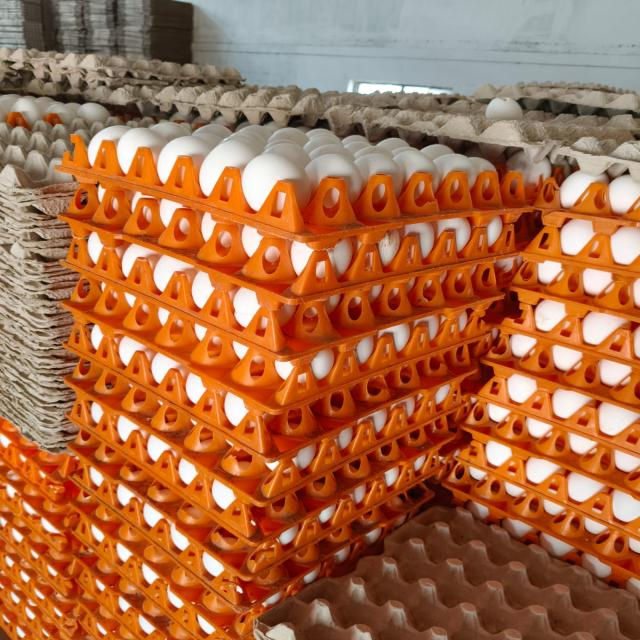egg_tray: (67, 256, 501, 410), (64, 281, 501, 432), (76, 380, 460, 543), (66, 244, 517, 378), (67, 359, 475, 505), (62, 185, 530, 308), (68, 280, 496, 412), (61, 124, 530, 243), (68, 368, 475, 505), (69, 359, 469, 498), (71, 404, 459, 544), (77, 485, 431, 637), (70, 429, 440, 572), (257, 504, 638, 640), (68, 347, 473, 467), (77, 483, 431, 613), (79, 451, 441, 578), (490, 208, 638, 473), (78, 518, 386, 635), (462, 305, 639, 500), (387, 502, 638, 638), (0, 120, 104, 448), (459, 389, 639, 552), (78, 515, 357, 611), (445, 442, 639, 578), (443, 462, 639, 592), (0, 128, 76, 448), (487, 257, 639, 410), (447, 476, 639, 597), (444, 464, 633, 586), (82, 80, 523, 132), (83, 81, 523, 133), (69, 492, 218, 640), (326, 106, 638, 175), (461, 373, 639, 493), (484, 300, 639, 436), (458, 439, 639, 552), (502, 262, 639, 404), (484, 312, 639, 436), (0, 182, 76, 433), (79, 525, 247, 638), (487, 290, 639, 403), (0, 168, 76, 369), (77, 552, 234, 640), (0, 421, 78, 595), (74, 551, 220, 640), (74, 552, 220, 640), (512, 218, 639, 319), (148, 85, 460, 126), (81, 574, 264, 640), (523, 170, 639, 274), (500, 300, 639, 386), (76, 554, 215, 640), (83, 84, 325, 128), (0, 47, 242, 90), (0, 116, 154, 182), (0, 422, 74, 551), (0, 128, 76, 252), (172, 86, 401, 126), (0, 116, 121, 190), (0, 116, 121, 189), (0, 489, 80, 597), (78, 569, 199, 640), (0, 471, 78, 580), (511, 256, 639, 321), (19, 52, 241, 89), (0, 472, 77, 576), (0, 94, 124, 158), (0, 541, 79, 637), (0, 536, 75, 637), (21, 52, 241, 85), (0, 120, 103, 189), (523, 217, 639, 277), (0, 539, 76, 630), (0, 472, 76, 560), (0, 512, 76, 600), (0, 116, 156, 158), (0, 120, 99, 186), (59, 54, 242, 88), (0, 419, 74, 503), (535, 169, 639, 228), (0, 539, 76, 618), (0, 569, 83, 640), (0, 523, 77, 599), (0, 490, 77, 562), (2, 431, 75, 504), (473, 83, 639, 115), (76, 598, 196, 640), (76, 598, 194, 640), (556, 128, 639, 182), (0, 94, 121, 131), (0, 116, 122, 150), (0, 585, 73, 640), (0, 135, 74, 188), (0, 94, 111, 129), (322, 92, 486, 114), (475, 80, 635, 102), (0, 126, 69, 175), (81, 608, 184, 640), (0, 121, 90, 157), (524, 111, 634, 139), (522, 110, 638, 136), (0, 120, 90, 151), (524, 110, 638, 133), (75, 604, 146, 640), (78, 607, 145, 640), (0, 502, 38, 558), (0, 46, 42, 90), (382, 488, 431, 525), (428, 437, 461, 488), (514, 208, 542, 260), (0, 612, 48, 640), (524, 111, 596, 127), (610, 176, 637, 215), (245, 580, 285, 606), (0, 607, 28, 640), (0, 454, 25, 488), (210, 292, 235, 324), (487, 376, 526, 396), (359, 516, 385, 546), (488, 101, 526, 119), (337, 293, 365, 317), (125, 114, 167, 130), (287, 570, 319, 590), (24, 80, 66, 95), (588, 498, 613, 522), (23, 80, 65, 94), (135, 210, 160, 232), (380, 502, 407, 522), (245, 436, 273, 455), (429, 416, 451, 440), (561, 220, 592, 237), (452, 272, 472, 296), (486, 442, 507, 463), (546, 486, 570, 504), (15, 511, 32, 535), (284, 412, 309, 428), (0, 170, 28, 184), (0, 424, 13, 454), (626, 233, 639, 263), (173, 228, 197, 244), (412, 488, 430, 508), (154, 88, 171, 108), (452, 405, 469, 425), (318, 177, 339, 193), (611, 226, 639, 238), (203, 486, 226, 499), (126, 118, 155, 128), (177, 460, 192, 479), (394, 333, 409, 352), (126, 118, 154, 128), (78, 492, 91, 513), (227, 583, 243, 600), (127, 118, 154, 128), (332, 121, 351, 135), (54, 504, 70, 520), (127, 118, 154, 127), (556, 156, 575, 168), (47, 169, 64, 182), (507, 487, 518, 507), (272, 182, 290, 194), (55, 505, 70, 519), (425, 129, 450, 137), (617, 515, 628, 533), (149, 631, 171, 640), (380, 115, 393, 130), (357, 424, 372, 436), (149, 632, 171, 640), (471, 574, 488, 584), (223, 298, 231, 319), (487, 387, 501, 399), (609, 542, 621, 555), (5, 50, 19, 61), (566, 155, 580, 166), (127, 271, 138, 284), (207, 633, 226, 640), (39, 263, 58, 270), (178, 124, 190, 135), (224, 533, 235, 545), (470, 471, 482, 482), (211, 542, 224, 552), (78, 346, 94, 354), (560, 544, 574, 553), (538, 310, 548, 322), (96, 576, 104, 590), (397, 630, 411, 638), (618, 122, 634, 129), (119, 545, 130, 555), (428, 278, 439, 288), (229, 450, 238, 462), (468, 103, 483, 110), (450, 475, 463, 483), (0, 124, 4, 150), (3, 549, 11, 562), (89, 414, 99, 424), (368, 126, 378, 136), (9, 50, 19, 60), (78, 400, 88, 410), (521, 263, 531, 273), (625, 477, 634, 488), (311, 343, 320, 354), (615, 438, 627, 446), (505, 470, 513, 482), (272, 607, 284, 615), (594, 236, 607, 243), (47, 566, 56, 576), (239, 479, 247, 490), (70, 337, 81, 345), (371, 176, 388, 181), (39, 190, 51, 197), (0, 521, 9, 530), (497, 262, 507, 270), (154, 616, 164, 624), (447, 173, 460, 179), (379, 418, 386, 429), (613, 439, 624, 446), (487, 389, 498, 396), (210, 635, 225, 640), (129, 436, 141, 442), (438, 392, 446, 401), (75, 543, 83, 552), (391, 110, 399, 119), (514, 398, 523, 406), (77, 544, 85, 553), (267, 598, 279, 604), (122, 524, 131, 532), (558, 614, 566, 623), (77, 416, 87, 423), (634, 560, 639, 574), (286, 397, 296, 404), (99, 250, 106, 260), (627, 438, 634, 448), (352, 522, 362, 529), (401, 398, 412, 404), (429, 100, 437, 108), (577, 237, 585, 245), (470, 122, 477, 131), (4, 353, 11, 362), (237, 628, 246, 635), (130, 389, 139, 396), (555, 517, 564, 524), (500, 131, 505, 143), (369, 312, 375, 322), (125, 341, 133, 348), (106, 576, 113, 584), (394, 287, 401, 295), (33, 634, 47, 638), (85, 580, 90, 591), (601, 417, 610, 423), (0, 589, 6, 598), (549, 510, 558, 516), (211, 635, 221, 640), (272, 570, 282, 575), (541, 134, 551, 139), (483, 483, 490, 490), (436, 339, 444, 345), (628, 438, 634, 446), (106, 574, 118, 578), (175, 536, 183, 542), (495, 384, 503, 390), (159, 407, 165, 415), (598, 538, 606, 544), (126, 563, 132, 571), (182, 220, 188, 228), (565, 626, 577, 630), (610, 548, 619, 553), (321, 446, 327, 453), (322, 371, 329, 377), (120, 361, 127, 367), (199, 586, 205, 593), (46, 513, 53, 519), (493, 459, 500, 465), (412, 282, 419, 288), (77, 439, 83, 446), (331, 445, 339, 450), (178, 538, 183, 546), (210, 380, 220, 384), (581, 107, 589, 112), (168, 123, 178, 127), (599, 117, 609, 121), (238, 307, 246, 312), (155, 438, 161, 444), (172, 531, 176, 540), (287, 223, 293, 229), (61, 244, 67, 250), (460, 323, 465, 330), (28, 256, 35, 261), (213, 635, 220, 640), (537, 432, 544, 437), (172, 599, 177, 606), (599, 538, 606, 543), (184, 630, 188, 638), (371, 633, 379, 637), (321, 303, 325, 311), (273, 132, 281, 136), (202, 495, 207, 501), (547, 228, 557, 231), (30, 496, 35, 502), (556, 448, 562, 453), (583, 178, 593, 181), (500, 136, 505, 142), (453, 391, 459, 396), (92, 444, 98, 449), (607, 616, 612, 622), (170, 376, 174, 383), (101, 480, 108, 484), (176, 568, 180, 575), (0, 96, 4, 103), (527, 416, 534, 420), (500, 95, 507, 99), (314, 585, 321, 589), (110, 118, 119, 121), (98, 583, 103, 588), (45, 501, 50, 506), (594, 632, 599, 637), (190, 357, 194, 363), (200, 278, 203, 286), (10, 473, 14, 479), (342, 634, 350, 637), (236, 502, 242, 506), (256, 308, 260, 314), (13, 62, 17, 68), (172, 598, 176, 604), (501, 155, 504, 162), (190, 224, 197, 227), (300, 594, 307, 597), (94, 482, 99, 486), (309, 461, 313, 466), (49, 443, 54, 447), (545, 514, 549, 519), (365, 117, 370, 121), (6, 50, 10, 55), (7, 559, 12, 563), (485, 483, 489, 488), (590, 278, 595, 282), (377, 522, 383, 525), (314, 372, 317, 378), (206, 206, 212, 209), (120, 351, 123, 357), (262, 292, 268, 295), (459, 468, 462, 474), (414, 634, 420, 637), (412, 114, 418, 117), (194, 563, 197, 569), (399, 309, 408, 311), (373, 247, 377, 251), (414, 174, 418, 178), (269, 323, 273, 327), (343, 320, 347, 324), (508, 273, 512, 277), (631, 448, 635, 452), (156, 378, 160, 382), (0, 157, 2, 165), (0, 125, 4, 129), (190, 562, 194, 566), (590, 184, 594, 188), (153, 584, 157, 588), (271, 326, 275, 330), (113, 518, 117, 522), (458, 246, 462, 250), (249, 478, 254, 481), (543, 176, 548, 179), (628, 344, 631, 349), (545, 436, 550, 439), (116, 466, 119, 471), (367, 462, 370, 467), (83, 506, 86, 511), (619, 115, 624, 118), (569, 495, 574, 498), (405, 505, 410, 508), (170, 378, 173, 383), (43, 193, 50, 195), (594, 530, 601, 532), (265, 468, 268, 472), (110, 446, 113, 450), (231, 396, 234, 400), (69, 193, 72, 197), (179, 356, 183, 359), (318, 194, 322, 197), (397, 287, 401, 290), (603, 426, 609, 428), (583, 424, 586, 428), (50, 571, 54, 574), (0, 436, 3, 440), (634, 437, 636, 443), (127, 354, 130, 358), (506, 157, 510, 160), (605, 572, 609, 575), (511, 448, 515, 451), (96, 510, 100, 513), (11, 598, 14, 602), (3, 618, 6, 622), (43, 192, 49, 194), (3, 183, 6, 187), (11, 97, 15, 100), (593, 582, 597, 585), (97, 608, 101, 611), (14, 253, 18, 256), (441, 122, 443, 128), (372, 122, 378, 124), (56, 351, 62, 353), (85, 607, 89, 610), (213, 636, 219, 638), (172, 627, 174, 633), (158, 555, 161, 559), (613, 472, 617, 475), (593, 94, 596, 98), (71, 445, 75, 448), (628, 115, 631, 119), (58, 153, 61, 157), (634, 531, 637, 535), (622, 528, 625, 532), (572, 504, 575, 508), (193, 386, 196, 390), (299, 310, 303, 313), (613, 172, 619, 174), (383, 140, 389, 142), (0, 605, 3, 609), (288, 602, 292, 605), (541, 282, 546, 284), (5, 185, 7, 190), (561, 514, 563, 519), (621, 212, 626, 214), (15, 136, 17, 141), (45, 396, 47, 401), (23, 364, 28, 366), (387, 126, 392, 128), (610, 114, 615, 116), (587, 496, 592, 498), (223, 604, 228, 606), (256, 478, 259, 481), (432, 360, 435, 363), (532, 360, 535, 363), (503, 345, 506, 348), (379, 396, 382, 399), (465, 478, 468, 481), (154, 375, 157, 378), (151, 284, 154, 287), (112, 253, 115, 256), (534, 502, 537, 505), (574, 320, 577, 323), (0, 623, 3, 626), (39, 508, 42, 511), (604, 179, 607, 182), (18, 506, 21, 509), (20, 255, 23, 258), (7, 483, 10, 486), (405, 625, 408, 628), (537, 132, 540, 135), (354, 118, 357, 121), (534, 394, 537, 397), (361, 388, 364, 391), (6, 578, 9, 581), (510, 95, 513, 98), (585, 132, 588, 135), (611, 117, 614, 120), (347, 530, 350, 533), (52, 63, 55, 66), (94, 95, 97, 98), (151, 572, 154, 575), (569, 290, 571, 294), (31, 496, 33, 500), (83, 507, 85, 511), (318, 368, 322, 370), (72, 91, 76, 93), (123, 431, 127, 433), (28, 172, 32, 174), (12, 158, 14, 162), (67, 434, 69, 438), (85, 618, 87, 622), (170, 635, 174, 637), (249, 619, 251, 623), (130, 618, 132, 622), (579, 186, 581, 190), (79, 440, 81, 444), (515, 97, 519, 99), (104, 480, 108, 482), (551, 517, 553, 521), (543, 214, 545, 218), (621, 300, 624, 302), (549, 220, 552, 222), (558, 136, 561, 138), (432, 281, 434, 284), (204, 596, 206, 599), (13, 456, 16, 458), (0, 98, 3, 100), (373, 464, 376, 466), (634, 330, 636, 333), (573, 318, 576, 320), (27, 616, 29, 619), (9, 173, 11, 176), (460, 475, 462, 478), (14, 482, 17, 484), (334, 635, 340, 636), (60, 366, 63, 368), (61, 355, 63, 358), (582, 460, 585, 462), (496, 419, 499, 421), (487, 398, 490, 400), (76, 634, 78, 637), (115, 473, 117, 476), (495, 353, 497, 356), (74, 90, 77, 92), (635, 542, 638, 544), (533, 492, 536, 494), (614, 387, 620, 388), (285, 324, 287, 327), (356, 309, 362, 310), (210, 304, 213, 306), (235, 296, 237, 299), (439, 296, 442, 298), (418, 410, 420, 413), (147, 627, 149, 630), (381, 456, 383, 459), (517, 275, 519, 278), (3, 425, 4, 430), (596, 185, 601, 186), (628, 296, 632, 297), (232, 484, 234, 486), (226, 478, 228, 480), (226, 480, 228, 482), (0, 98, 2, 100), (0, 100, 2, 102), (233, 634, 235, 636), (316, 463, 318, 465), (326, 156, 330, 157), (257, 310, 259, 312), (123, 435, 125, 437), (586, 398, 588, 400), (511, 265, 513, 267), (508, 118, 512, 119), (20, 522, 22, 524), (67, 435, 69, 437), (132, 123, 134, 125), (138, 121, 140, 123), (181, 548, 183, 550), (217, 507, 219, 509), (611, 413, 613, 415), (45, 544, 46, 548), (61, 127, 63, 129), (7, 147, 9, 149), (37, 144, 39, 146), (509, 530, 511, 532), (596, 130, 598, 132), (392, 122, 394, 124), (116, 81, 118, 83), (91, 606, 93, 608), (94, 542, 95, 546), (576, 191, 578, 193), (225, 396, 226, 400), (388, 451, 392, 452), (190, 526, 192, 528), (587, 110, 589, 112), (507, 98, 509, 100), (128, 78, 130, 80), (286, 402, 290, 403), (188, 392, 190, 394), (102, 349, 104, 351), (425, 283, 427, 285), (123, 520, 125, 522), (389, 458, 391, 460), (472, 158, 476, 159), (356, 152, 358, 154), (146, 600, 148, 602), (59, 153, 61, 155), (59, 155, 61, 157), (77, 123, 79, 125), (606, 622, 607, 626), (145, 600, 148, 601), (367, 447, 370, 448), (7, 203, 10, 204), (121, 582, 122, 585), (265, 371, 268, 372), (416, 151, 419, 152), (161, 121, 164, 122), (272, 489, 275, 490), (512, 267, 513, 270), (532, 435, 535, 436), (244, 507, 245, 510), (442, 133, 445, 134), (475, 125, 476, 128), (563, 636, 566, 637), (562, 605, 563, 608), (544, 536, 547, 537), (198, 638, 199, 640), (549, 273, 551, 274), (270, 473, 272, 474), (31, 500, 33, 501), (7, 484, 8, 486), (10, 478, 12, 479), (162, 605, 164, 606), (116, 518, 117, 520), (550, 507, 552, 508), (392, 276, 394, 277), (150, 121, 152, 122), (147, 574, 148, 576), (132, 509, 134, 510), (507, 524, 508, 526), (234, 634, 236, 635), (306, 580, 308, 581), (16, 540, 18, 541), (519, 407, 521, 408), (533, 302, 535, 303), (173, 505, 175, 506), (178, 504, 179, 506), (141, 473, 142, 475), (387, 456, 388, 458), (316, 426, 317, 428), (220, 538, 222, 539), (478, 444, 479, 446), (311, 318, 312, 320), (151, 522, 152, 524), (106, 458, 107, 460), (201, 407, 203, 408), (423, 372, 425, 373), (165, 238, 167, 239), (86, 598, 88, 599), (207, 638, 208, 640), (12, 98, 13, 99), (165, 603, 166, 604), (347, 531, 348, 532), (105, 516, 106, 517), (256, 467, 257, 468), (496, 336, 497, 337), (165, 194, 166, 195), (273, 156, 274, 157), (547, 138, 548, 139), (474, 461, 475, 462), (98, 574, 99, 575), (116, 416, 117, 417), (12, 434, 13, 435), (167, 361, 168, 362), (547, 160, 548, 161), (545, 158, 546, 159), (596, 563, 597, 564), (474, 498, 475, 499), (196, 496, 197, 497), (111, 465, 112, 466), (34, 178, 35, 179), (0, 114, 1, 115), (527, 256, 528, 257), (378, 456, 379, 457), (155, 400, 156, 401), (594, 525, 595, 526), (511, 485, 512, 486), (305, 309, 306, 310), (96, 127, 97, 128), (507, 338, 508, 339), (467, 578, 468, 579), (476, 565, 477, 566), (574, 294, 574, 294), (221, 476, 221, 476), (334, 461, 336, 461), (305, 461, 306, 461), (185, 461, 185, 461), (241, 460, 241, 461), (183, 459, 183, 460), (138, 456, 138, 457), (150, 437, 150, 439), (10, 173, 10, 174), (8, 492, 10, 492), (369, 552, 370, 552), (361, 532, 362, 532), (161, 465, 161, 466), (103, 339, 104, 339), (594, 378, 594, 379), (334, 354, 334, 360), (221, 344, 221, 348), (404, 332, 406, 332), (402, 330, 403, 330), (142, 292, 144, 292), (438, 192, 439, 192), (550, 416, 550, 416), (214, 636, 214, 638), (201, 438, 201, 439), (527, 516, 528, 516), (132, 352, 132, 352), (507, 163, 508, 163), (63, 433, 63, 437), (50, 128, 50, 128), (196, 626, 196, 628), (132, 505, 132, 506), (94, 499, 95, 499), (20, 172, 21, 172), (543, 232, 543, 232), (50, 127, 50, 128), (382, 636, 383, 636), (351, 636, 353, 636), (374, 632, 374, 632), (396, 623, 397, 623), (392, 610, 393, 610), (111, 81, 112, 81), (397, 132, 402, 132), (90, 609, 90, 610), (187, 636, 190, 636), (245, 598, 245, 599), (534, 403, 534, 404), (521, 394, 521, 394), (494, 394, 494, 397), (378, 381, 380, 381), (568, 230, 570, 230), (312, 485, 312, 485), (141, 478, 141, 479), (201, 534, 201, 534), (121, 514, 121, 515), (374, 136, 374, 136), (436, 136, 439, 136), (587, 130, 588, 130), (401, 129, 401, 130), (554, 123, 555, 123), (623, 120, 623, 122), (92, 74, 92, 76), (635, 528, 636, 528), (543, 497, 543, 498), (452, 476, 452, 477), (502, 461, 503, 461), (201, 385, 201, 386), (107, 354, 108, 354), (99, 349, 99, 350), (314, 308, 315, 308), (425, 301, 426, 301), (72, 94, 73, 94), (31, 50, 32, 50), (123, 504, 123, 506), (94, 132, 96, 132), (586, 134, 588, 134), (139, 232, 139, 232), (90, 193, 90, 195), (521, 184, 521, 186), (62, 636, 65, 636), (563, 212, 563, 216), (150, 626, 152, 626), (36, 76, 37, 76), (147, 92, 148, 92), (83, 123, 83, 124), (514, 286, 515, 286), (590, 630, 590, 630), (601, 628, 601, 628), (636, 592, 636, 592), (563, 590, 563, 590), (456, 572, 457, 572)
